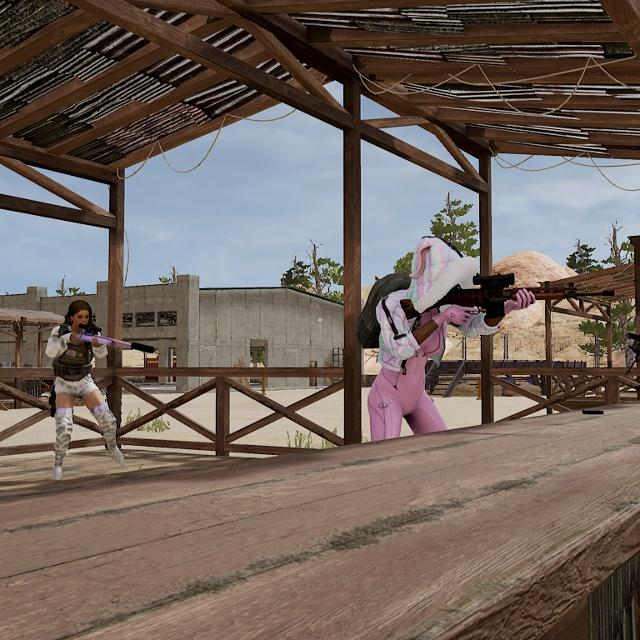head: (411, 236, 467, 306), (61, 292, 97, 338)
people: (347, 235, 471, 441), (33, 291, 143, 476)
